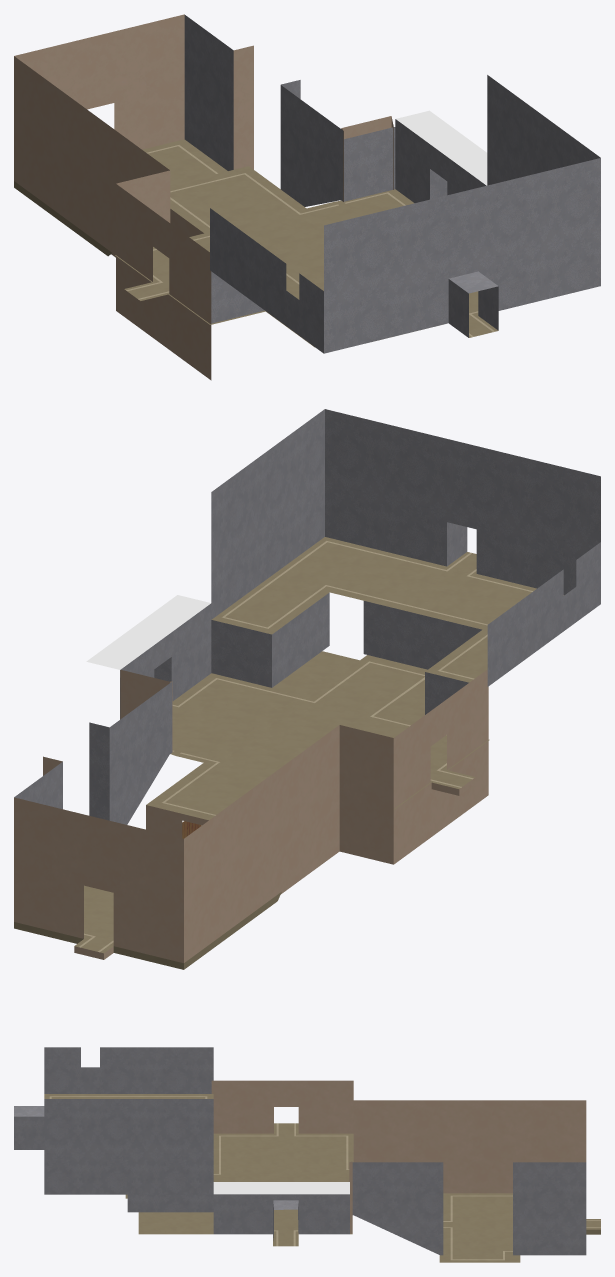
The model's file is MapFrame.fbx.
3 views of the same model, one above another, from view 1: azimuth 30°, elevation 25°; view 2: azimuth 150°, elevation 25°; view 3: azimuth 270°, elevation 25° (orthographic). The views are drawn at different scales.
Parts seen in each view (by area): view 1: TopFloor-detach; view 2: TopFloor-detach; view 3: TopFloor-detach.
Part boxes in pixels (left/top/right/bottom): TopFloor-detach: left=14, top=14, right=600, bottom=380; TopFloor-detach: left=14, top=409, right=600, bottom=969; TopFloor-detach: left=14, top=1047, right=600, bottom=1262.
Size of the model in its own units: 7975 by 5425 by 16025.
